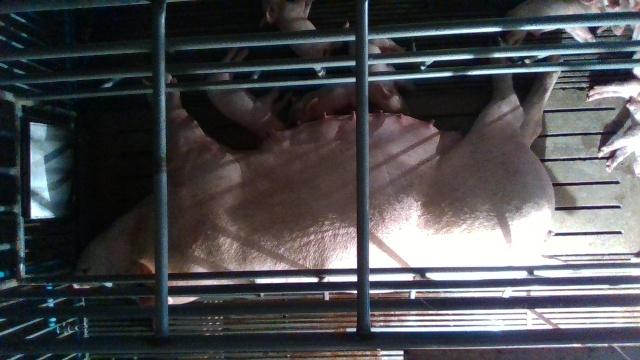piglet: (207, 50, 287, 137), (587, 78, 640, 179), (508, 0, 615, 43), (349, 41, 409, 113), (264, 0, 332, 58), (282, 85, 361, 128)
sow-sleep-lactate: (74, 39, 556, 304)
